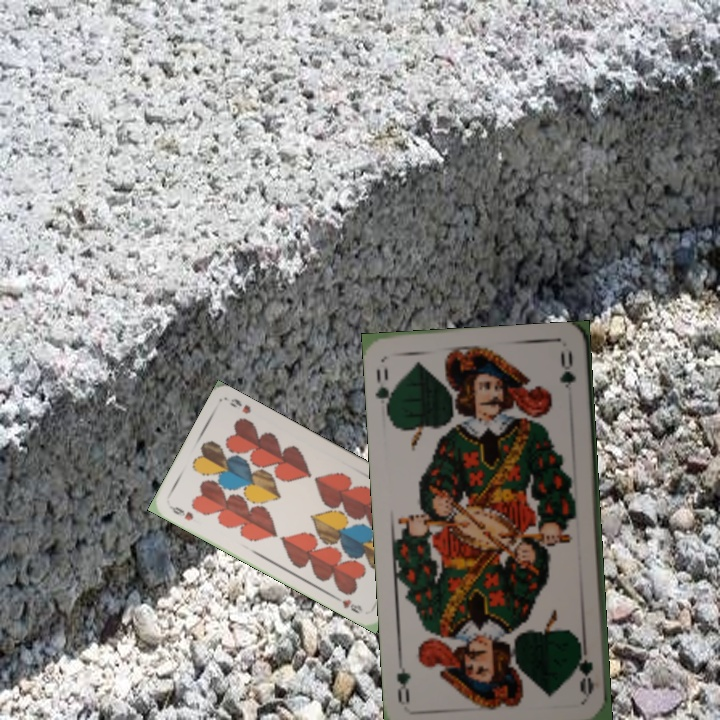GO: (573, 636, 597, 695), (371, 364, 398, 416)
H9: (165, 501, 196, 523)
